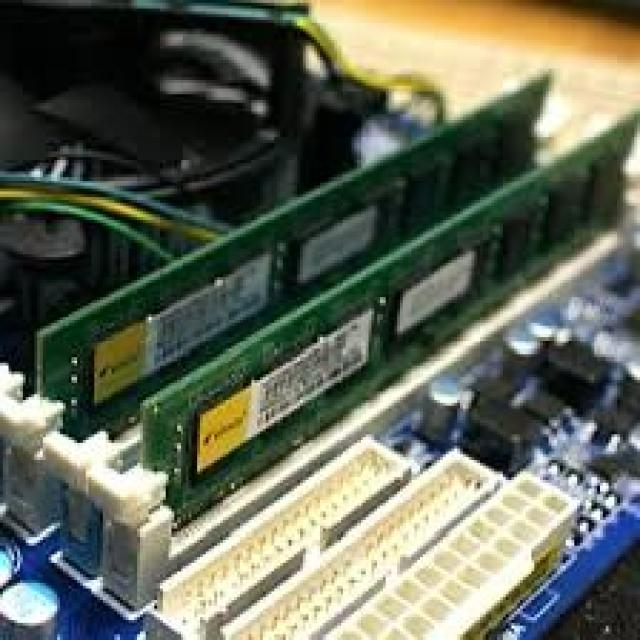Ram: (21, 63, 592, 620)
